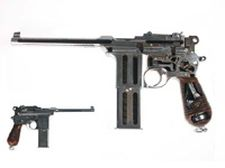rifle: (11, 29, 212, 101), (6, 100, 100, 155)
